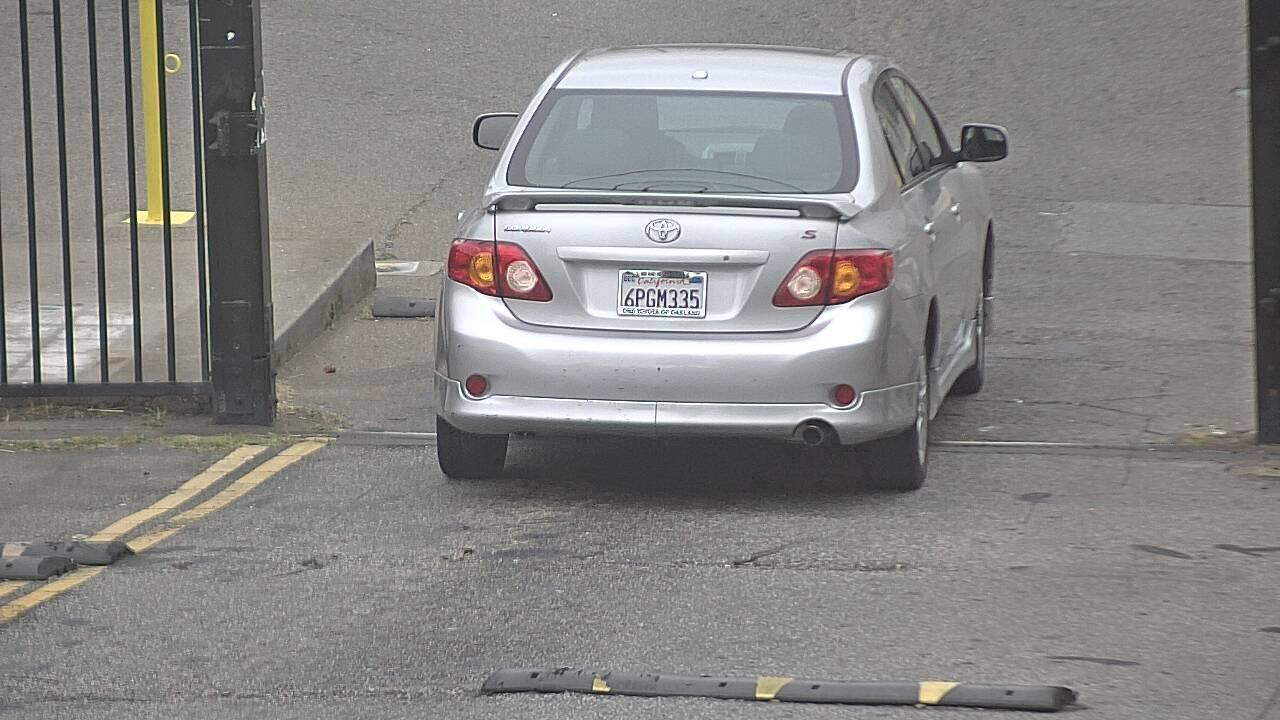placa de veiculo: (609, 255, 709, 329)
